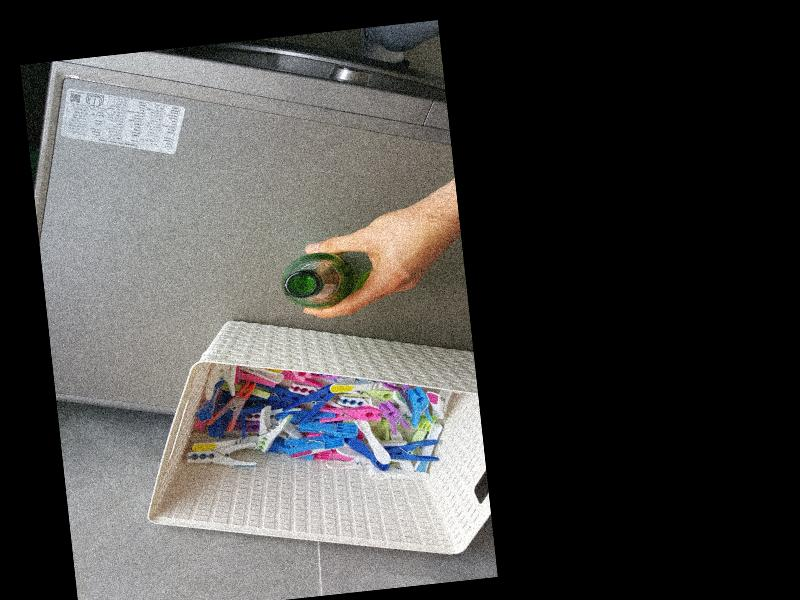Beer: (278, 248, 362, 311)
